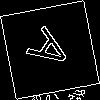A: (25, 25, 82, 80)
